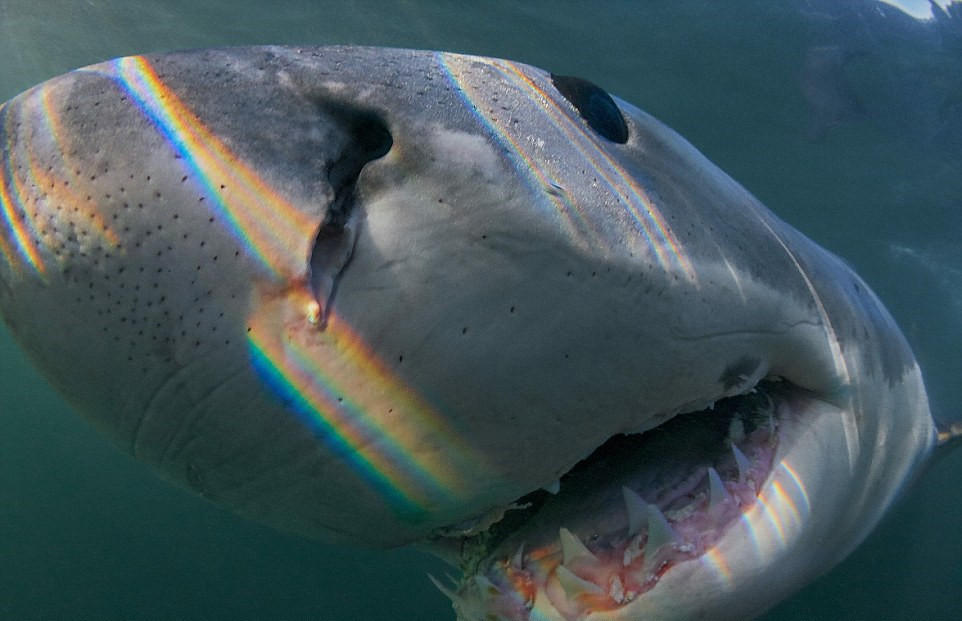shark: (1, 42, 937, 621)
